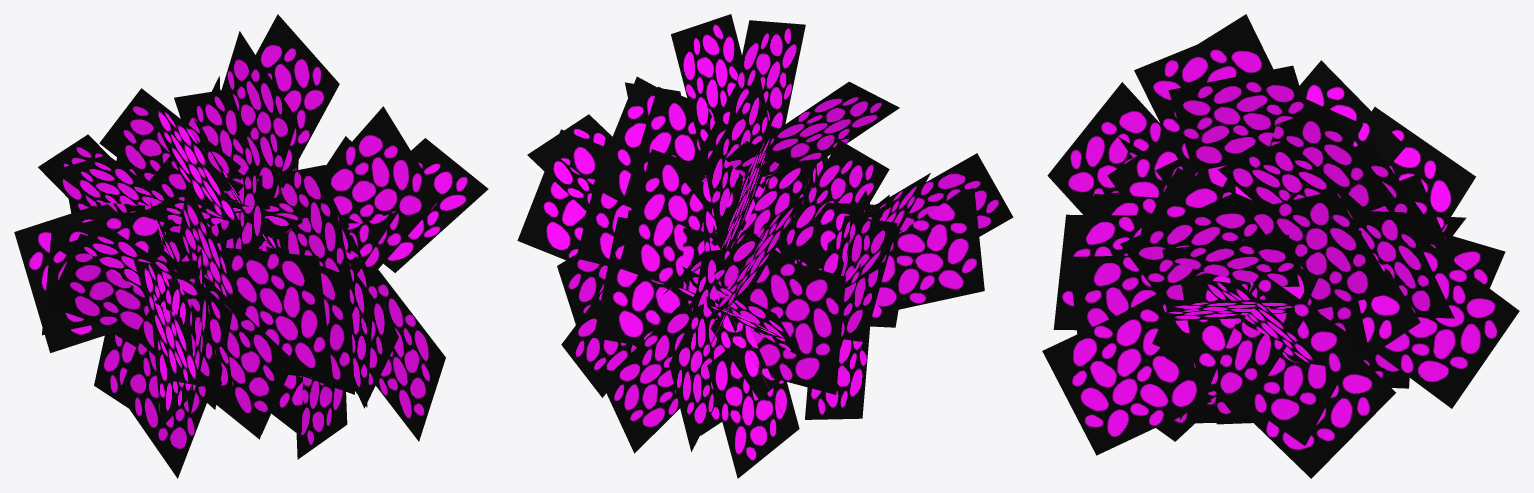
File: bush.glb
The picture shows the model from 3 angles, left to right: view 1: azimuth 30°, elevation 25°; view 2: azimuth 150°, elevation 25°; view 3: azimuth 270°, elevation 25°; orthographic projection. The views are drawn at different scales.
Visible parts, largest first — view 1: bush; view 2: bush; view 3: bush.
Part boxes in pixels (x1,y1,x2,y2): bush: [14, 14, 488, 478]; bush: [517, 14, 1013, 478]; bush: [1042, 14, 1519, 478].
Size of the model in its own units: 1.64 by 1.7 by 1.8.
Materials: 1 (1 with a texture image).
